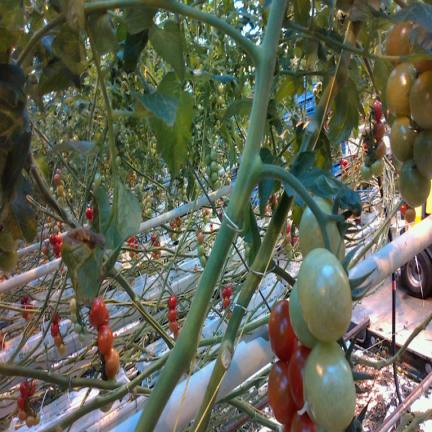6kp_peduncle: (230, 112, 322, 222)
6kp_petiole: (215, 10, 284, 114)
MainStem: (134, 0, 288, 432), (187, 191, 291, 432), (40, 351, 168, 432), (298, 50, 352, 151), (111, 267, 174, 348), (30, 156, 81, 229), (0, 363, 123, 391), (228, 398, 284, 432)
tomato: (297, 248, 352, 342), (303, 341, 356, 430), (299, 197, 345, 261), (268, 360, 297, 424), (289, 282, 317, 348), (269, 299, 297, 361), (386, 62, 415, 116), (399, 159, 430, 207), (288, 345, 310, 409), (410, 70, 432, 128), (390, 117, 416, 162), (386, 21, 413, 55), (413, 130, 432, 178), (291, 412, 317, 431), (89, 297, 106, 326), (98, 325, 113, 354), (105, 347, 119, 378), (0, 251, 18, 272), (400, 203, 415, 222), (374, 119, 384, 141), (372, 99, 382, 121), (371, 158, 383, 176), (375, 139, 386, 158), (361, 164, 372, 181), (404, 206, 415, 222), (363, 125, 371, 146), (364, 150, 374, 166), (27, 381, 35, 398), (20, 382, 29, 396), (168, 294, 176, 309), (50, 322, 58, 337), (17, 395, 25, 409), (18, 409, 27, 421), (169, 321, 178, 332), (58, 343, 67, 354), (86, 207, 93, 221), (54, 334, 62, 346), (288, 244, 294, 260), (94, 173, 101, 186), (26, 416, 35, 426), (70, 298, 76, 312), (118, 166, 125, 178), (197, 231, 204, 243), (53, 243, 60, 255), (211, 171, 218, 182), (70, 312, 77, 323), (74, 322, 81, 333), (54, 174, 61, 185), (56, 185, 63, 196), (198, 244, 204, 256), (222, 288, 229, 298), (58, 196, 65, 206), (115, 156, 122, 166), (285, 242, 292, 252), (170, 309, 176, 320), (226, 286, 232, 297), (217, 83, 223, 94), (205, 154, 211, 165), (206, 166, 212, 177), (34, 413, 40, 424), (200, 255, 206, 266), (55, 234, 62, 243), (224, 296, 230, 306), (210, 150, 216, 160), (217, 95, 223, 105), (53, 312, 58, 323), (79, 333, 85, 342), (211, 161, 216, 171), (286, 233, 291, 242), (152, 142, 156, 149), (209, 178, 212, 185), (147, 194, 150, 201), (147, 202, 150, 207)
